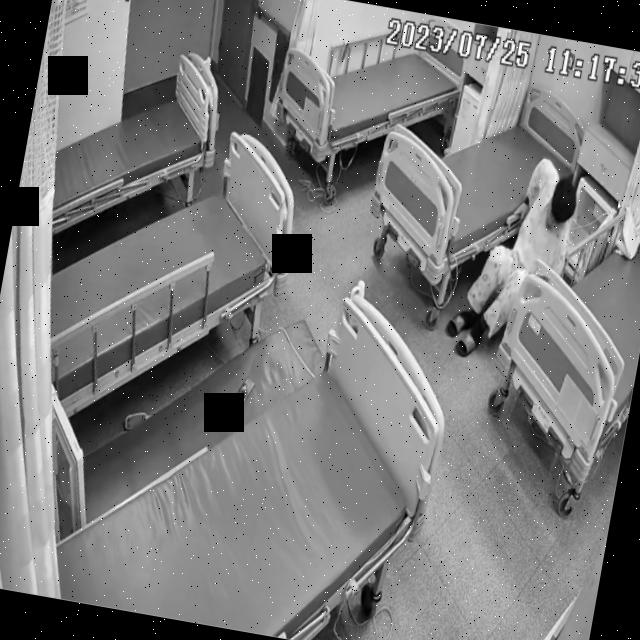bed: (46, 260, 454, 640), (24, 109, 305, 438), (481, 176, 640, 488), (362, 70, 586, 283), (41, 32, 230, 254), (272, 8, 468, 182)
fall: (442, 158, 592, 371)
patient: (444, 155, 594, 368)
